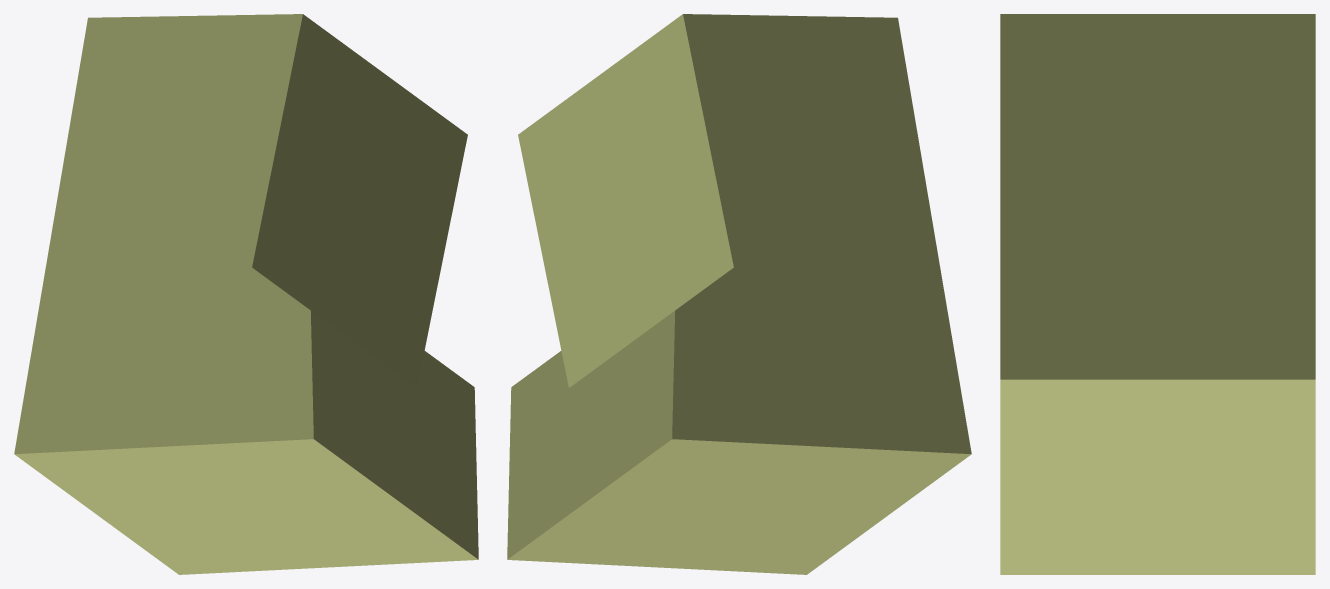
The picture shows the model from 3 angles, left to right: view 1: azimuth 30°, elevation 25°; view 2: azimuth 150°, elevation 25°; view 3: azimuth 270°, elevation 25°; orthographic projection. The views are drawn at different scales.
Parts seen in each view (by area): view 1: 0_1_2_0_1_3_0_2_0_3_3; view 2: 0_1_2_0_1_3_0_2_0_3_3; view 3: 0_1_2_0_1_3_0_2_0_3_3.
Part boxes in pixels (x1,y1,x2,y2): 0_1_2_0_1_3_0_2_0_3_3: (14,14,478,574); 0_1_2_0_1_3_0_2_0_3_3: (507,14,971,574); 0_1_2_0_1_3_0_2_0_3_3: (1000,14,1315,574).
Size of the model in its own units: 6.29 by 9.56 by 6.
